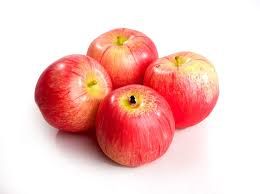apple: (97, 89, 174, 163), (145, 52, 219, 129), (37, 57, 111, 125), (88, 31, 164, 84)
